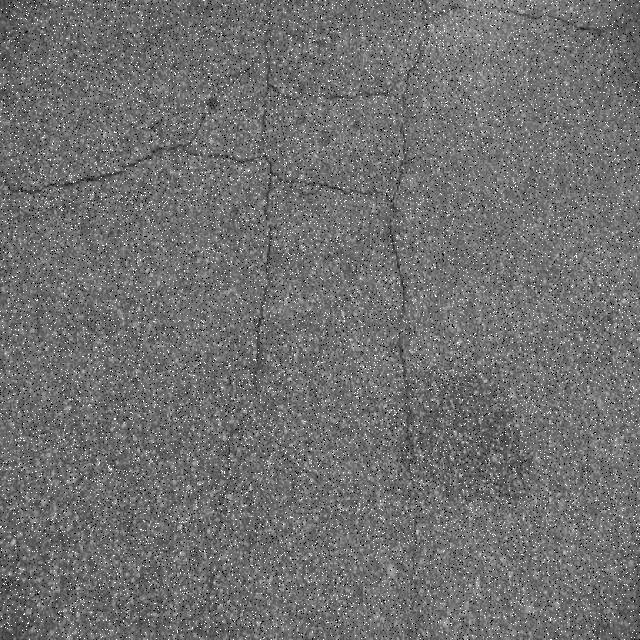Crack: (0, 0, 638, 639)
